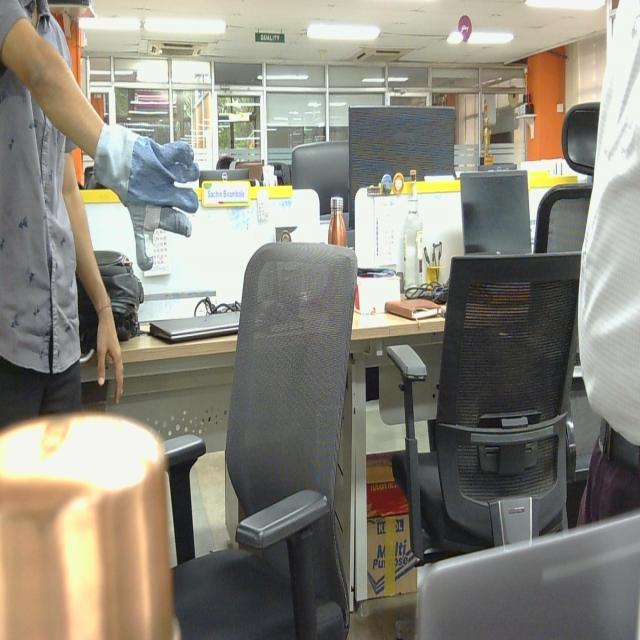Gloves-Detection: (91, 113, 202, 278)
